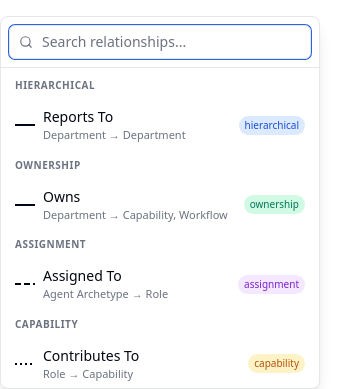
RelationshipPalette › should show no results message when no match
(page scrolled)
Type "zzzzz" into the field with test id "rel-palette-search" at point(160, 42), box [9,25,311,59]
(page scrolled)
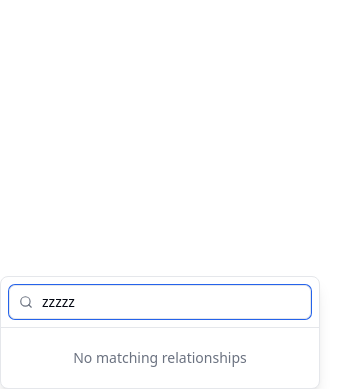
expect the text "No matching relationships" is shown: met, box [73,348,247,367]
